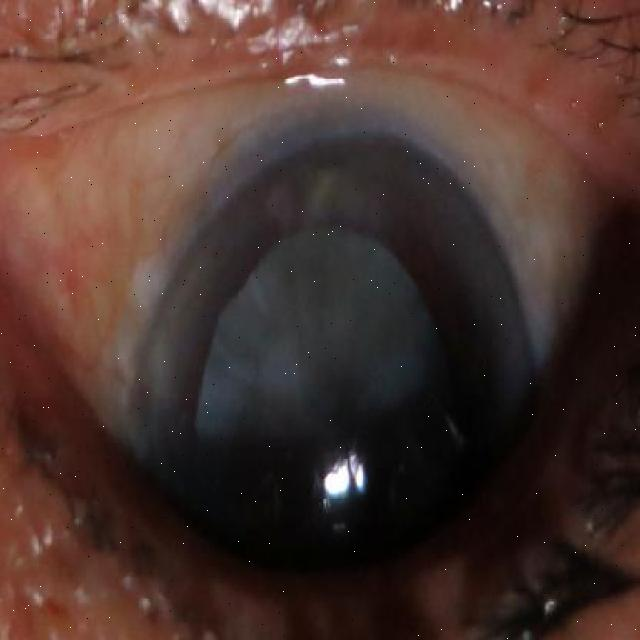Cataract: (140, 136, 547, 640)
